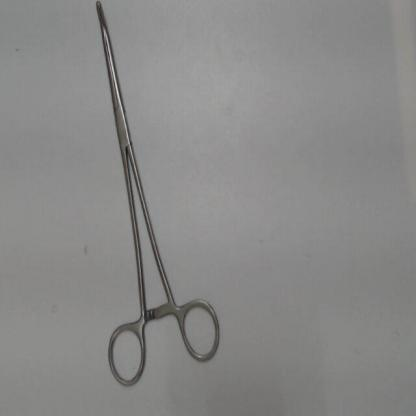Lahey Forceps: (90, 0, 225, 396)
